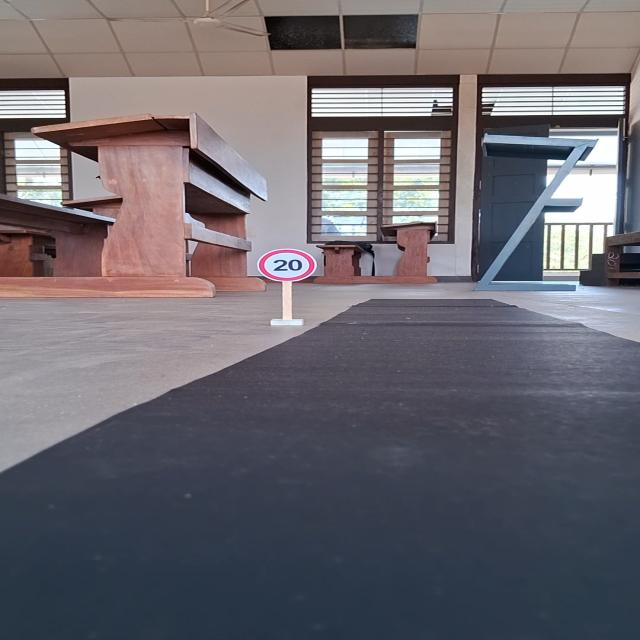Speed20: (257, 247, 318, 284)
